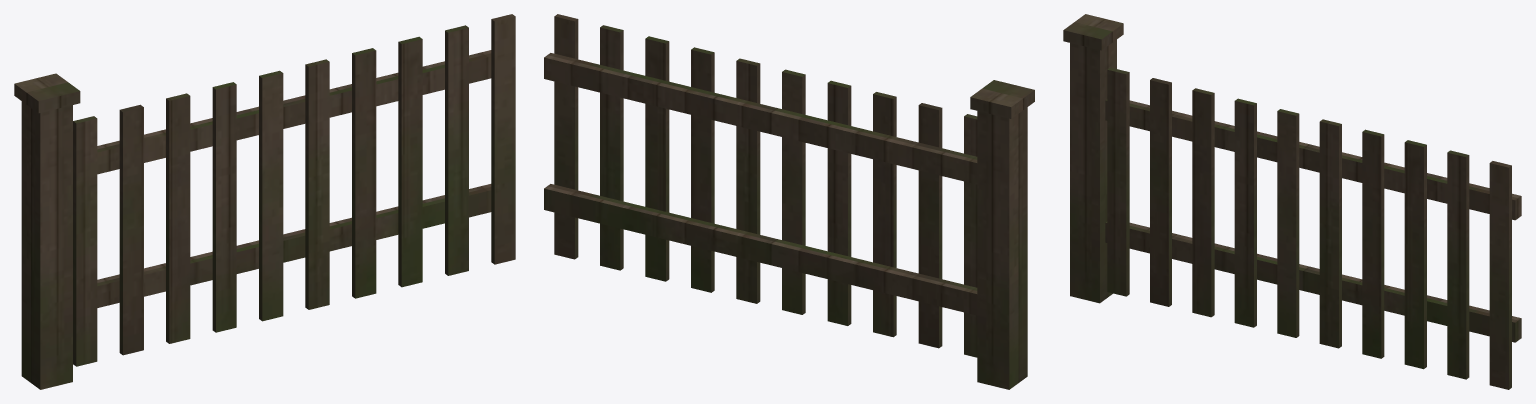
File: prp_fence_module_a_LOD1.glb
3 views of the same model, side by side, from view 1: azimuth 30°, elevation 25°; view 2: azimuth 150°, elevation 25°; view 3: azimuth 330°, elevation 25° (orthographic). The views are drawn at different scales.
Visible parts, largest first — view 1: prp_fence_module_a_wood; view 2: prp_fence_module_a_wood; view 3: prp_fence_module_a_wood.
Part boxes in pixels (x1=…): prp_fence_module_a_wood: x1=14, y1=14, x2=515, y2=389; prp_fence_module_a_wood: x1=544, y1=14, x2=1034, y2=389; prp_fence_module_a_wood: x1=1063, y1=14, x2=1521, y2=389.
Bounding box in the file's own units: 2.09 × 1.2 × 0.18.
1 material, 1 textured.
